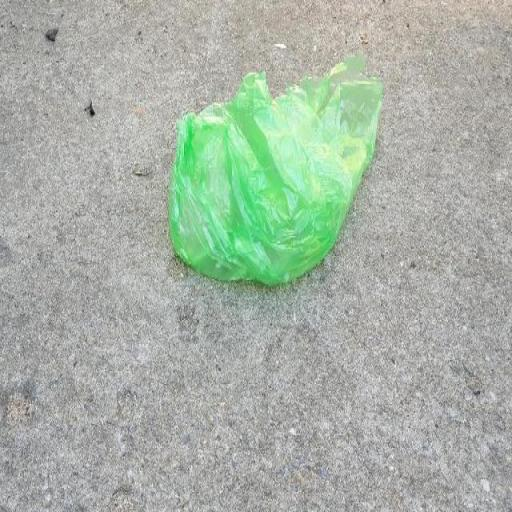plastic-bag: (166, 48, 383, 292)
